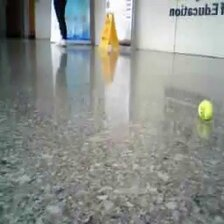tennis: (197, 99, 214, 121)
